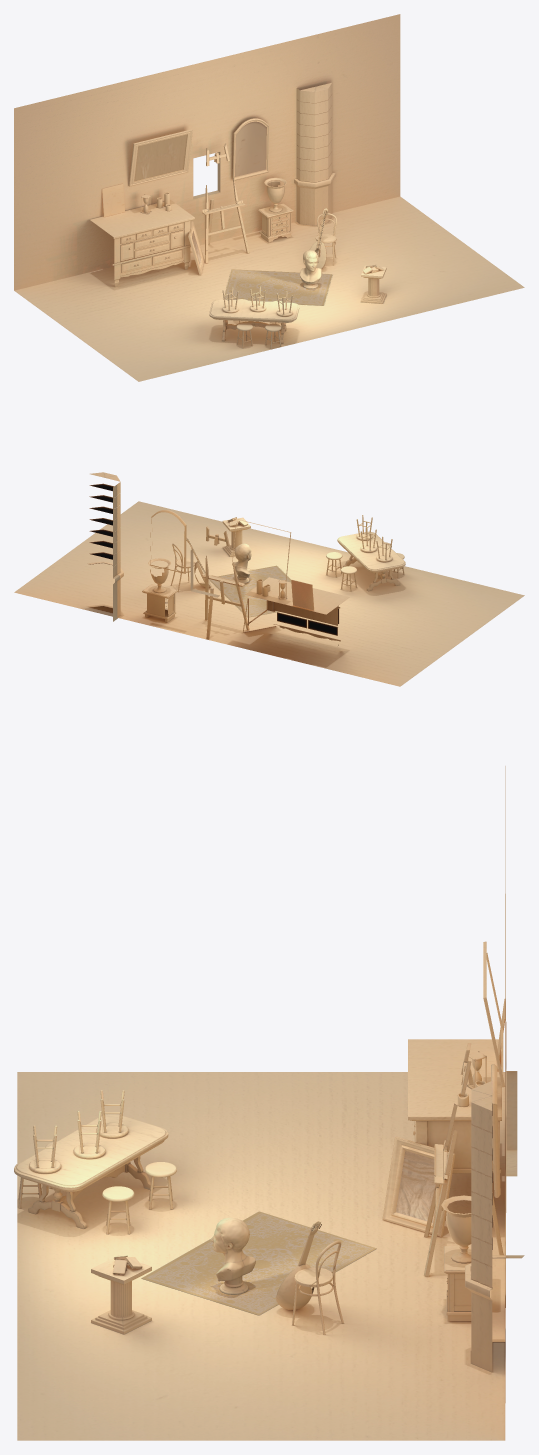
The model's file is shop.gltf.
3 renders of one model, top to bottom at view 1: azimuth 30°, elevation 25°; view 2: azimuth 150°, elevation 25°; view 3: azimuth 270°, elevation 25°, orthographic. The views are drawn at different scales.
Parts seen in each view (by area): view 1: Bake; view 2: Bake; view 3: Bake.
Part boxes in pixels (x1,y1,x2,y2): Bake: (14, 14, 524, 381); Bake: (14, 472, 524, 686); Bake: (14, 766, 524, 1440).
Bounding box in the file's own units: 11.91 × 5.4 × 6.97.
Materials: 6 (6 with a texture image).
